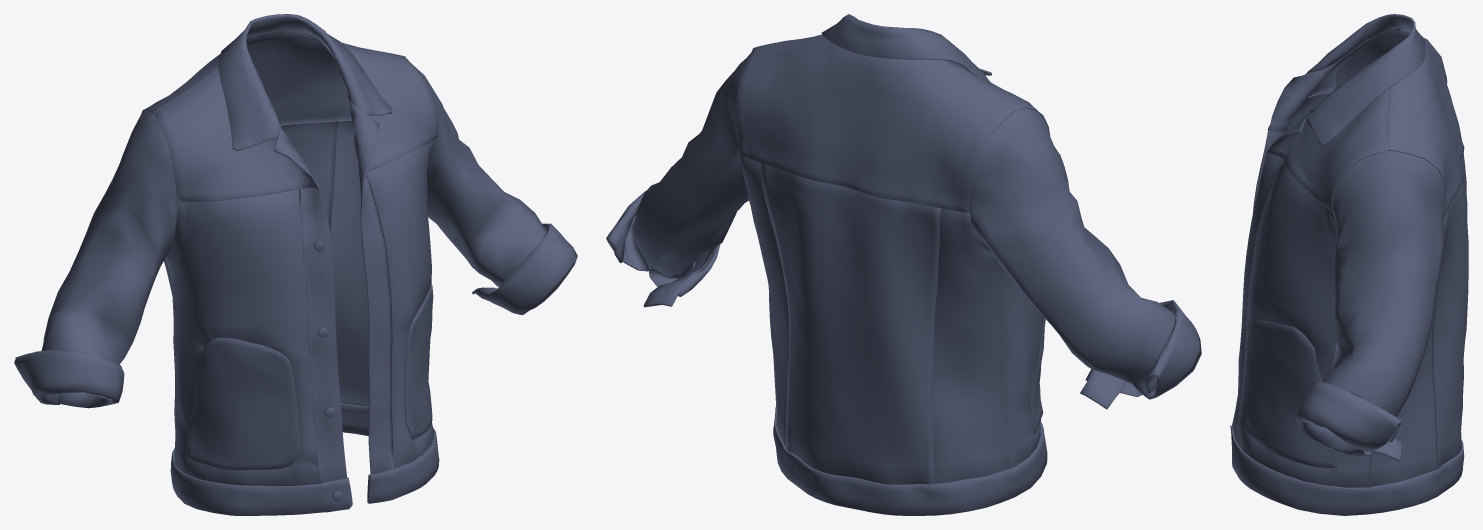
Rendered from jacket.glb.
The picture shows the model from 3 angles, left to right: view 1: azimuth 30°, elevation 25°; view 2: azimuth 150°, elevation 25°; view 3: azimuth 270°, elevation 25°; orthographic projection. The views are drawn at different scales.
Parts seen in each view (by area): view 1: SKM_man_med_nrw_Jacket; view 2: SKM_man_med_nrw_Jacket; view 3: SKM_man_med_nrw_Jacket.
Boxes of the visible parts, x1,y1,x2,y2 form: SKM_man_med_nrw_Jacket: [14, 14, 577, 515]; SKM_man_med_nrw_Jacket: [606, 14, 1201, 515]; SKM_man_med_nrw_Jacket: [1230, 14, 1468, 515].
Size of the model in its own units: 0.8857 by 0.6939 by 0.3416.
